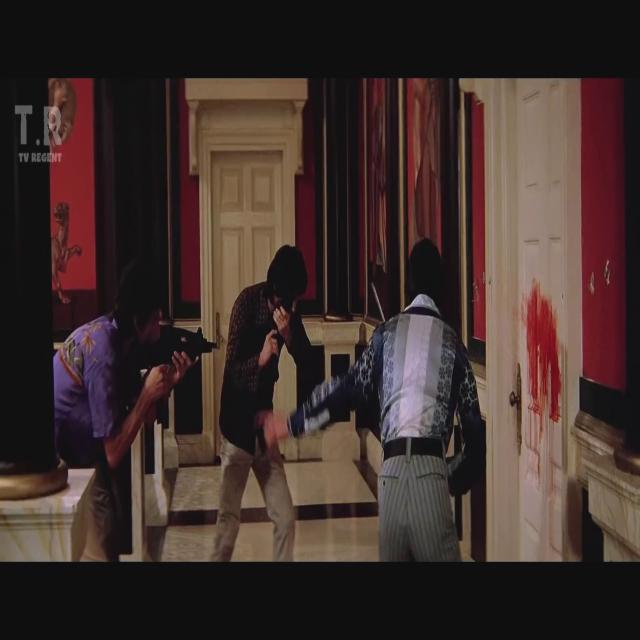long weapon: (114, 319, 234, 427)
